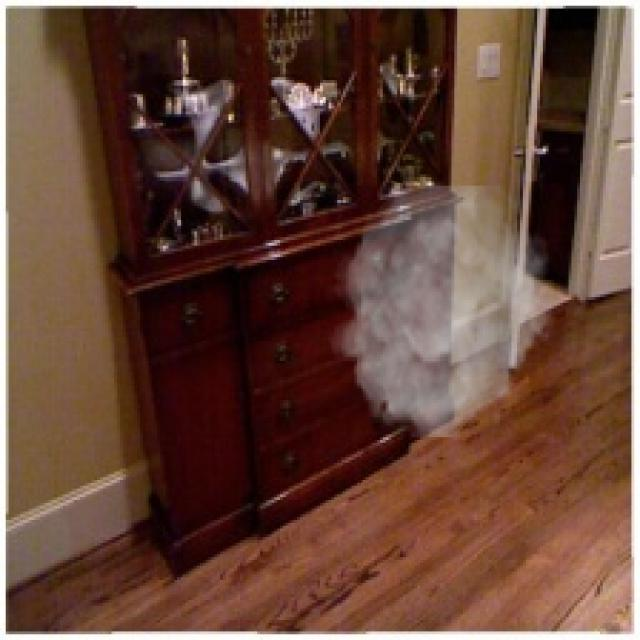smoke: (329, 186, 557, 437)
